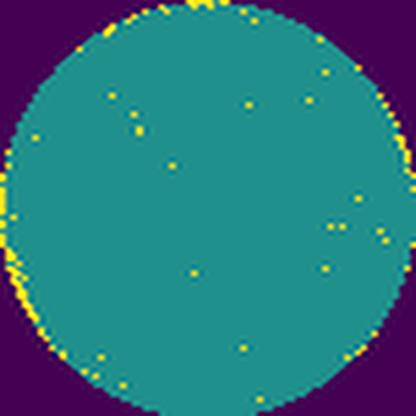Edge-Loc: (0, 164, 45, 336), (101, 0, 228, 37), (376, 112, 416, 190)
